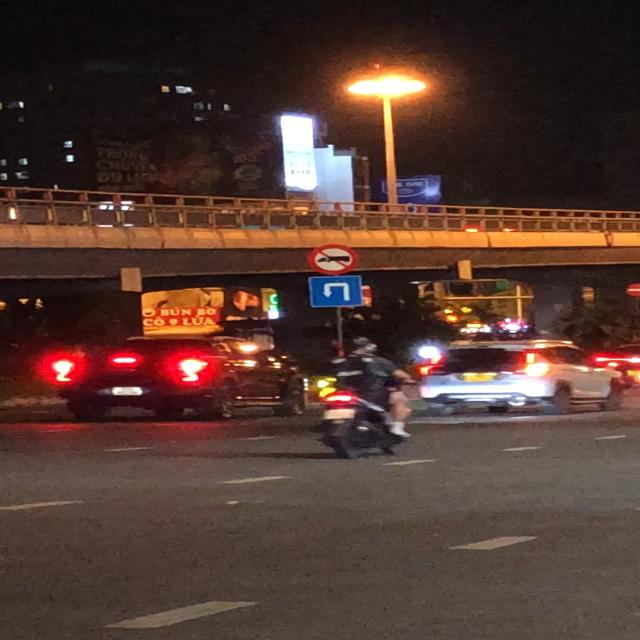Bien bao cam xe so-mi ro-mooc: (306, 244, 362, 276)
